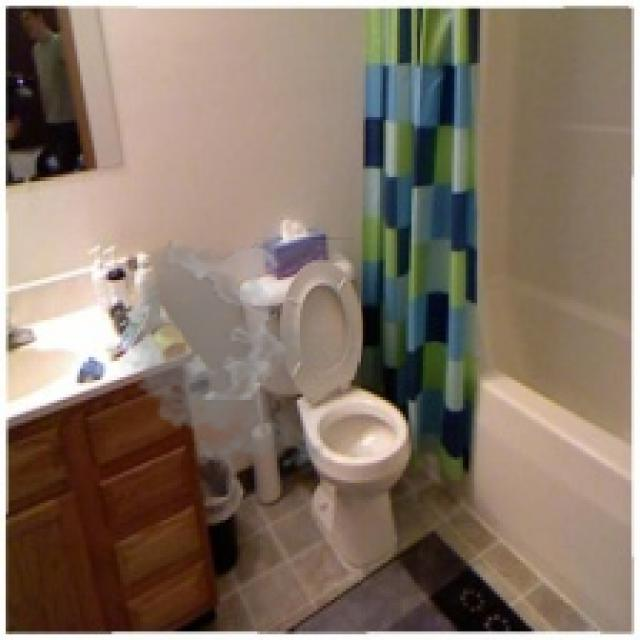smoke: (100, 237, 354, 474)
